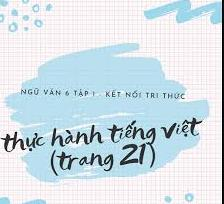text: (0, 115, 203, 154), (48, 142, 156, 178), (19, 86, 186, 100)
